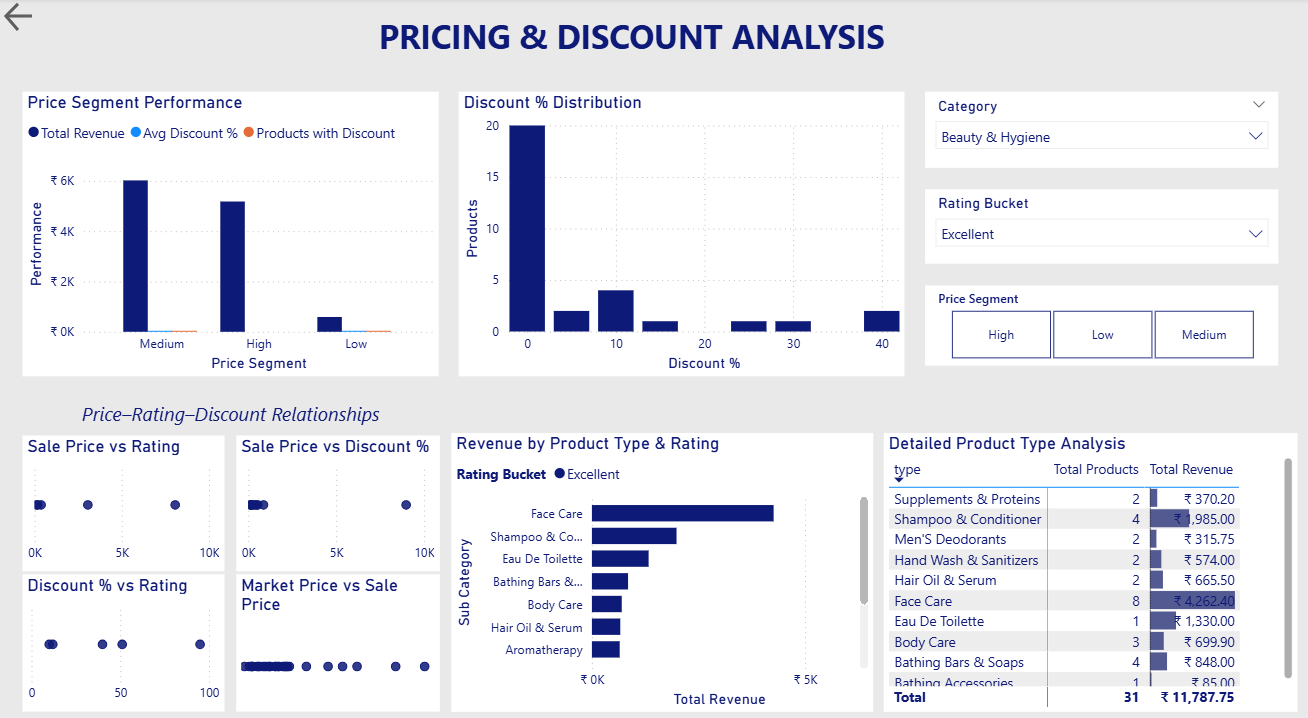

What the dashboard file says about the page in this screenshot:
{"tool":"powerbi","page":{"name":"Pricing & Discount","canvas":[1280,720],"ordinal":1},"visuals":[{"type":"slicer","fields":{"Values":["jiomart_products_data.category"]},"box":[904.3,91.9,345.8,74.1],"z":0},{"type":"slicer","fields":{"Values":["jiomart_products_data.price_segment"]},"box":[904.3,281.3,345.8,78.2],"z":1000},{"type":"slicer","fields":{"Values":["jiomart_products_data.rating_bucket"]},"box":[904.3,186.6,345.8,72.7],"z":2000},{"type":"textbox","box":[365.6,11,519.7,52.6],"z":3000},{"type":"clusteredColumnChart","title":"Price Segment Performance","fields":{"Y":["jiomart_products_data.Total Revenue","jiomart_products_data.Avg Discount %","jiomart_products_data.Products with Discount"],"Category":["jiomart_products_data.price_segment"]},"box":[22,91.9,407.5,278.6],"z":4000},{"type":"scatterChart","title":"Sale Price vs Rating","fields":{"Category":["jiomart_products_data.rating"],"X":["Sum(jiomart_products_data.sale_price)"]},"box":[22,428.1,197.6,133.1],"z":5000},{"type":"scatterChart","title":"Discount % vs Rating","fields":{"Category":["jiomart_products_data.rating"],"X":["Sum(jiomart_products_data.discount_percentage)"]},"box":[22,564,197.6,134.5],"z":6000},{"type":"scatterChart","title":"Sale Price vs Discount %","fields":{"X":["Sum(jiomart_products_data.sale_price)"],"Category":["jiomart_products_data.discount_percentage"]},"box":[230.5,428.1,199,133.1],"z":7000},{"type":"scatterChart","title":"Market Price vs Sale Price","fields":{"Category":["jiomart_products_data.sale_price"],"X":["Sum(jiomart_products_data.market_price)"]},"box":[230.5,564,199,134.5],"z":8000},{"type":"textbox","box":[45.3,388.3,360.9,54.9],"z":9000},{"type":"clusteredColumnChart","title":"Discount % Distribution","fields":{"Category":["jiomart_products_data.discount_percentage (bins)"],"Y":["CountNonNull(jiomart_products_data.product)"]},"box":[448.7,91.9,436.4,278.6],"z":10000},{"type":"barChart","title":"Revenue by Product Type & Rating","fields":{"Category":["jiomart_products_data.type"],"Y":["jiomart_products_data.Total Revenue"],"Series":["jiomart_products_data.rating_bucket"]},"box":[441.9,425.4,413,273.1],"z":11000},{"type":"pivotTable","title":"Detailed Product Type Analysis","fields":{"Rows":["jiomart_products_data.type"],"Values":["jiomart_products_data.Total Products","jiomart_products_data.Total Revenue"]},"box":[864.5,425.4,404.8,273.1],"z":12000},{"type":"actionButton","box":[0,0,79.6,37],"z":13000}]}

Visuals, with their boxes in screenshot pixels (x1, y1, x2, y2), scaled from the page's 1280x720 canvas onto the 1308x718 screenshot:
slicer - jiomart_products_data.category: x1=924 y1=92 x2=1277 y2=166
slicer - jiomart_products_data.price_segment: x1=924 y1=281 x2=1277 y2=359
slicer - jiomart_products_data.rating_bucket: x1=924 y1=186 x2=1277 y2=259
textbox: x1=374 y1=11 x2=905 y2=63
"Price Segment Performance" clusteredColumnChart: x1=22 y1=92 x2=439 y2=369
"Sale Price vs Rating" scatterChart: x1=22 y1=427 x2=224 y2=560
"Discount % vs Rating" scatterChart: x1=22 y1=562 x2=224 y2=697
"Sale Price vs Discount %" scatterChart: x1=236 y1=427 x2=439 y2=560
"Market Price vs Sale Price" scatterChart: x1=236 y1=562 x2=439 y2=697
textbox: x1=46 y1=387 x2=415 y2=442
"Discount % Distribution" clusteredColumnChart: x1=459 y1=92 x2=904 y2=369
"Revenue by Product Type & Rating" barChart: x1=452 y1=424 x2=874 y2=697
"Detailed Product Type Analysis" pivotTable: x1=883 y1=424 x2=1297 y2=697
actionButton: x1=0 y1=0 x2=81 y2=37
